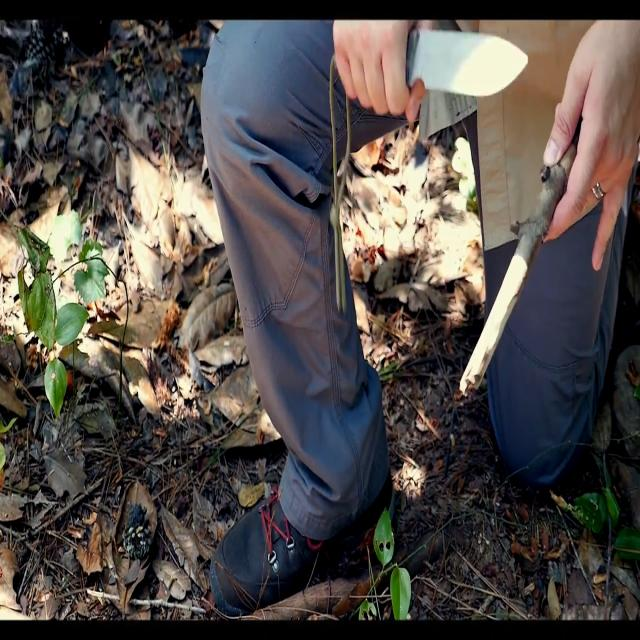knife: (408, 26, 535, 105)
